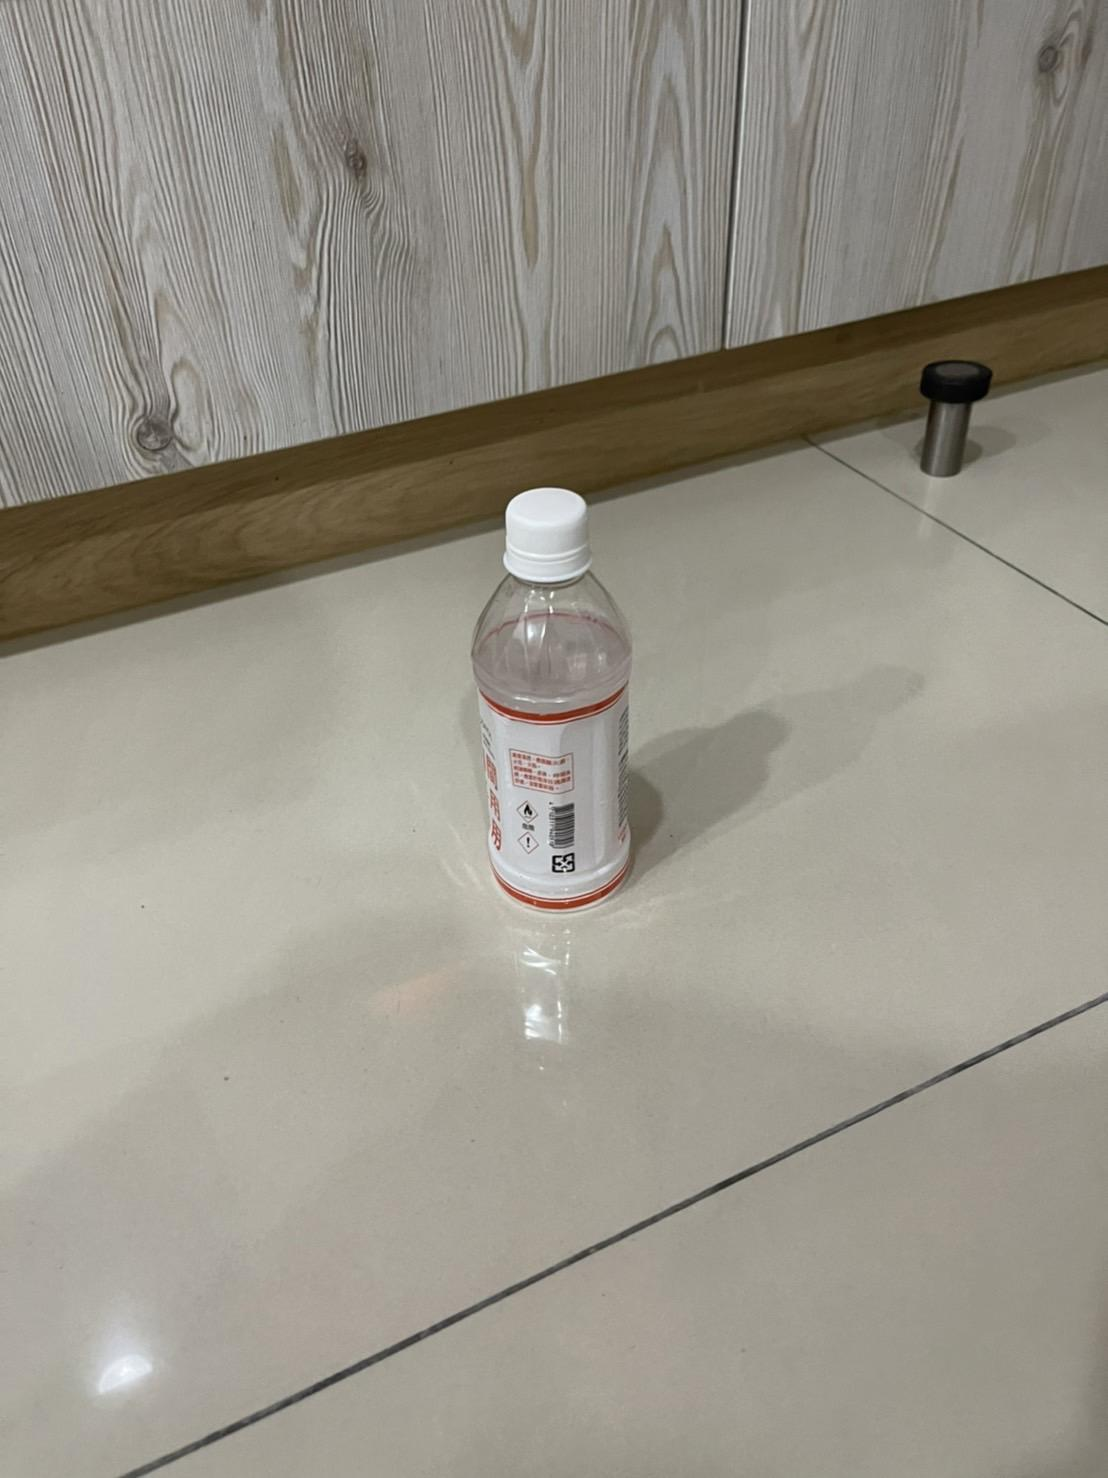bottle: (455, 460, 645, 935)
